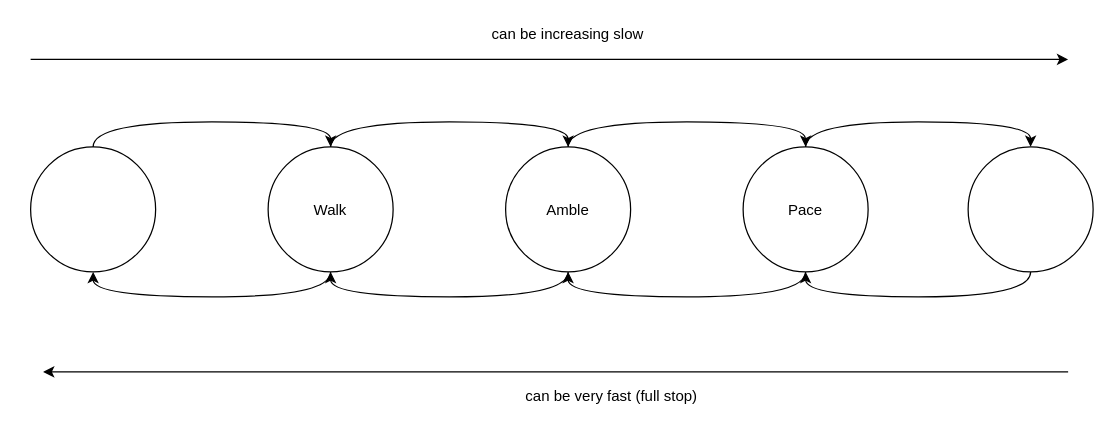
The diagram is 1115 pixels wide and 430 high, and some of its shapes have lost their labels. Each missing label, with the centre of its shape:
Stop: point 92,209
Trot: point 1030,209
